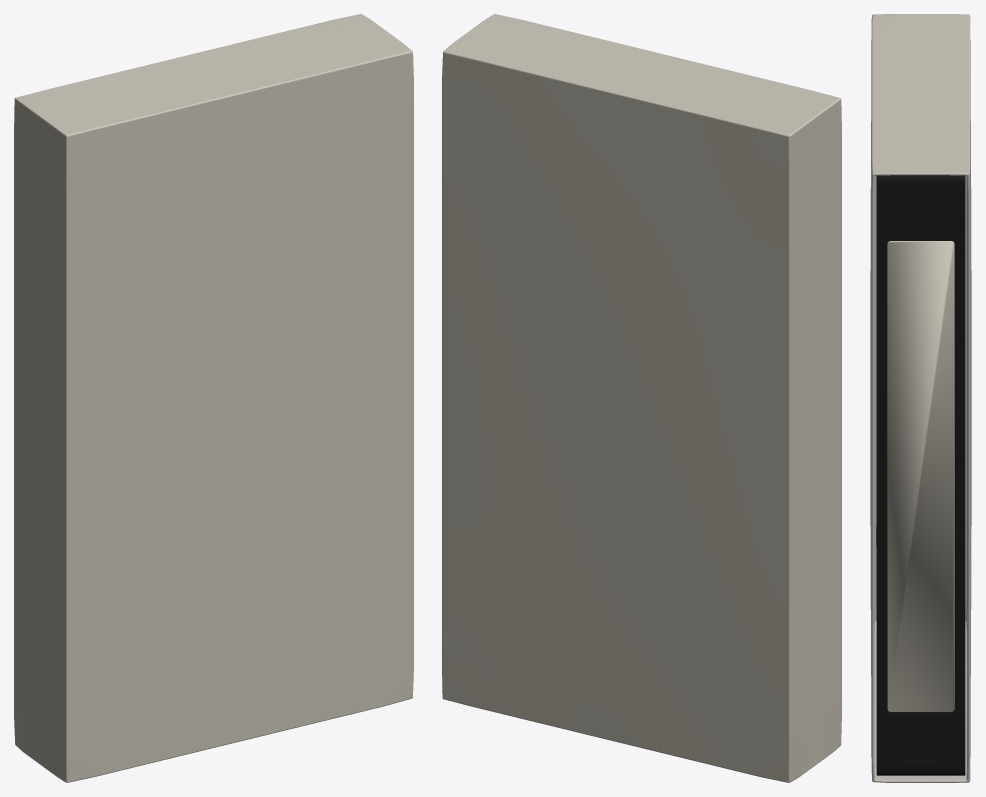
Rendered from vhs_sleeve.glb.
3 views of the same model, side by side, from view 1: azimuth 30°, elevation 25°; view 2: azimuth 150°, elevation 25°; view 3: azimuth 270°, elevation 25° (orthographic). The views are drawn at different scales.
Visible parts, largest first — view 1: vhs_sleeve; view 2: vhs_sleeve; view 3: vhs_sleeve.
Boxes of the visible parts, x1,y1,x2,y2 form: vhs_sleeve: (14,14,413,782); vhs_sleeve: (442,14,841,782); vhs_sleeve: (870,14,971,782).
Size of the model in its own units: 0.107 by 0.1905 by 0.0287.
16 materials, 14 textured.
